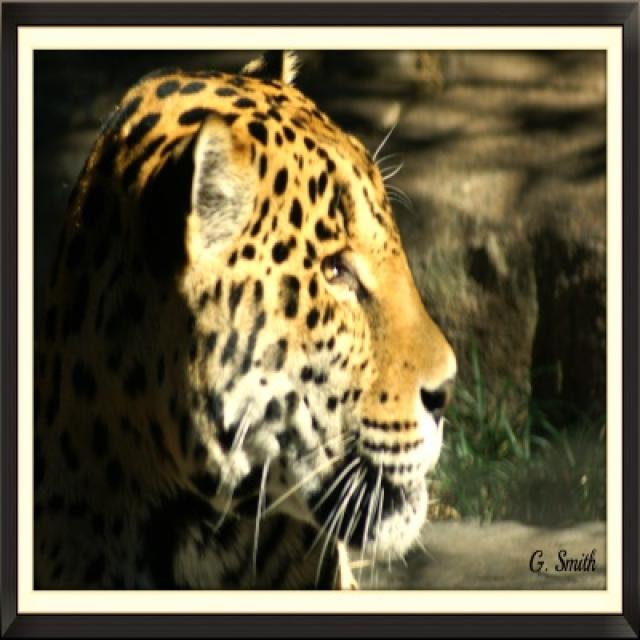Jaguar: (32, 69, 459, 592)
